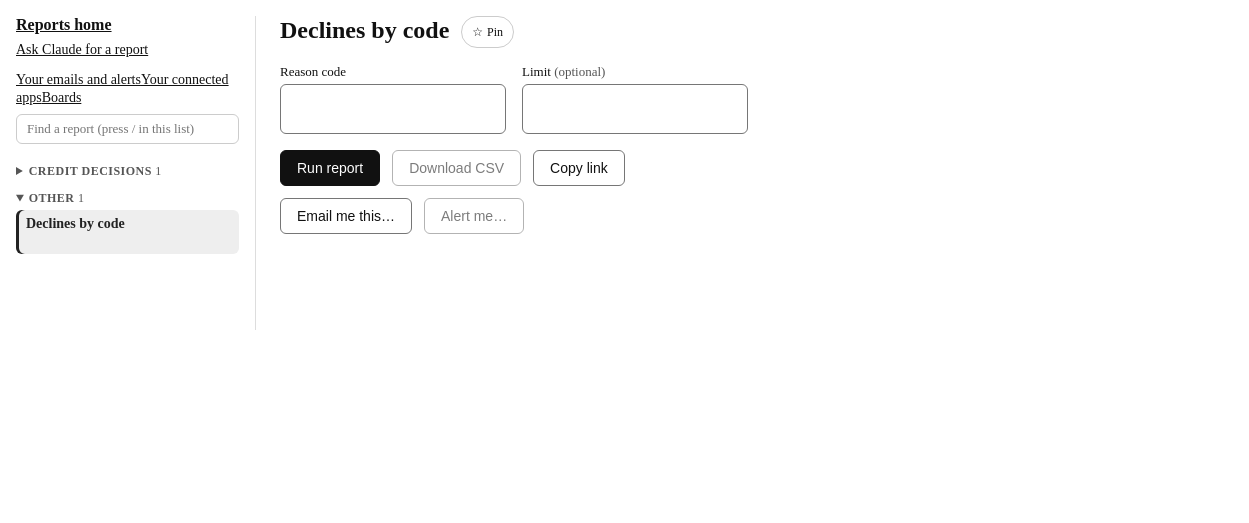
Scenario: ReportsView › clears the results while an edit is invalid, and marks the field without moving focus
The image size is (1249, 523).
Type "AB" into the field labelled "Reason code" at (393, 109), box top-left (280, 84), bottom-right (506, 134)
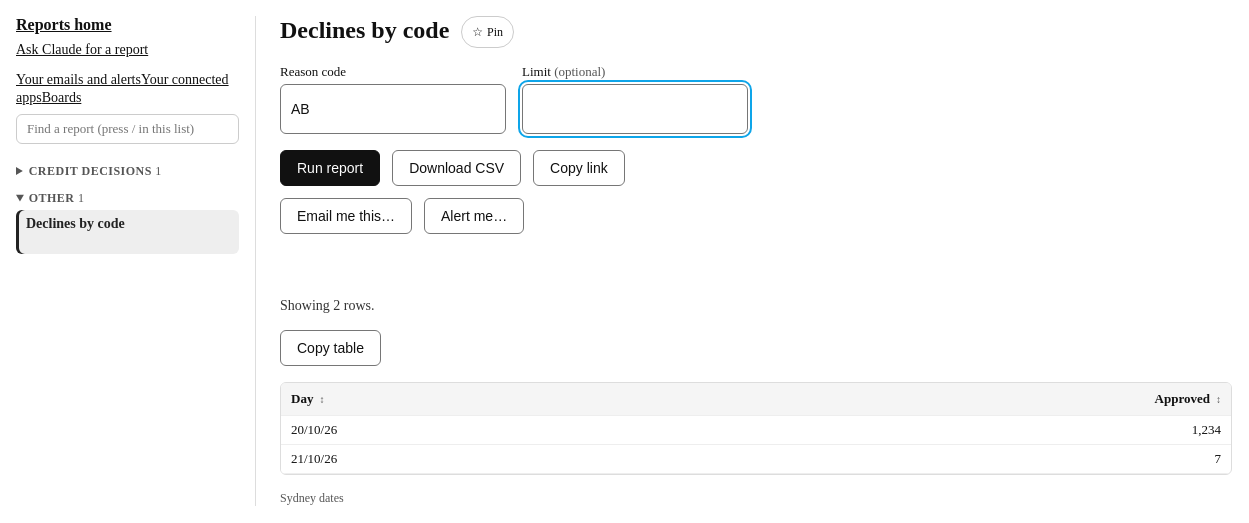
Expected: the table with test id "report-table" is shown, top-left (281, 383), bottom-right (1231, 474)
Type "many" into the field labelled "Limit (optional)" at (635, 109), box top-left (522, 84), bottom-right (748, 134)
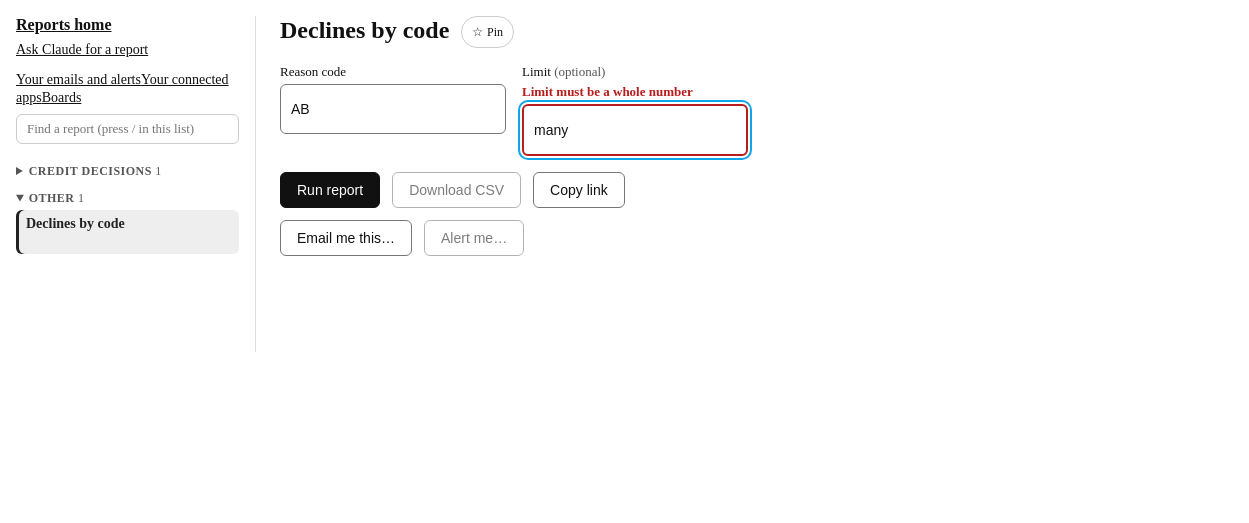
Expected: the table with test id "report-table" is gone
